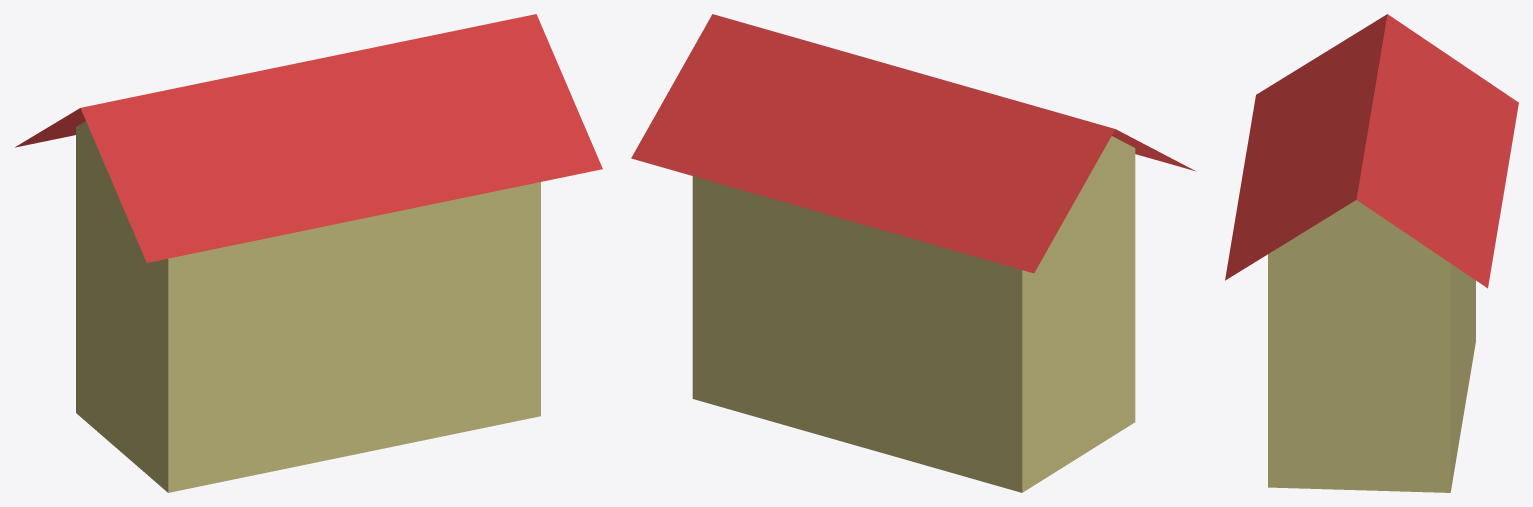
The picture shows the model from 3 angles, left to right: view 1: azimuth 30°, elevation 25°; view 2: azimuth 150°, elevation 25°; view 3: azimuth 270°, elevation 25°; orthographic projection. The views are drawn at different scales.
Bounding box in the file's own units: 11.39 × 7.3 × 8.42.
